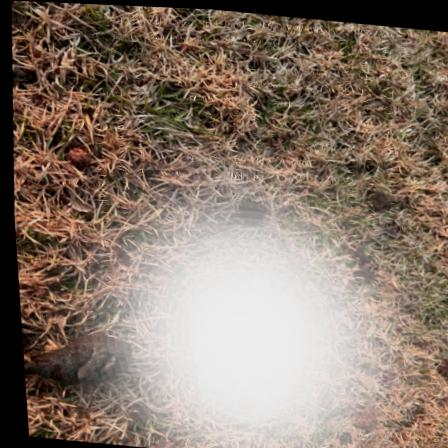dog-poop: (17, 319, 132, 402)
